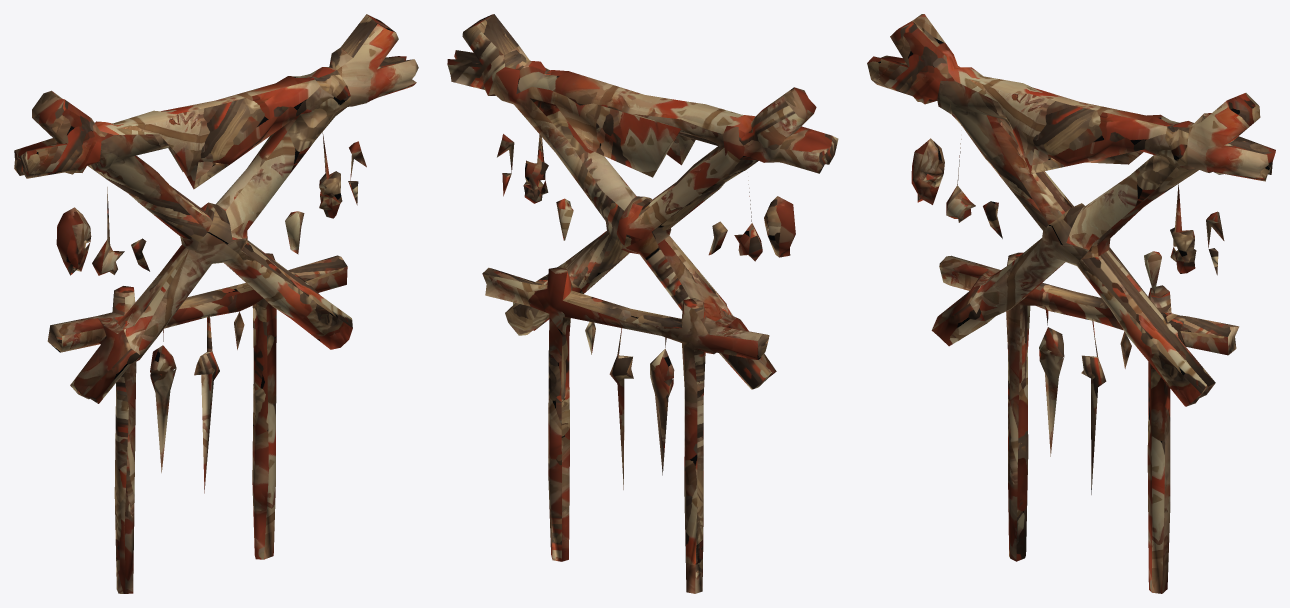
File: OrcishFlag.fbx
3 views of the same model, side by side, from view 1: azimuth 30°, elevation 25°; view 2: azimuth 150°, elevation 25°; view 3: azimuth 330°, elevation 25° (orthographic). The views are drawn at different scales.
Parts seen in each view (by area): view 1: mesh_node; view 2: mesh_node; view 3: mesh_node.
Part boxes in pixels (left/top/right/bottom): mesh_node: left=14, top=14, right=418, bottom=593; mesh_node: left=447, top=14, right=838, bottom=593; mesh_node: left=867, top=14, right=1275, bottom=593.
Size of the model in its own units: 1.55 by 1.97 by 0.2639.
